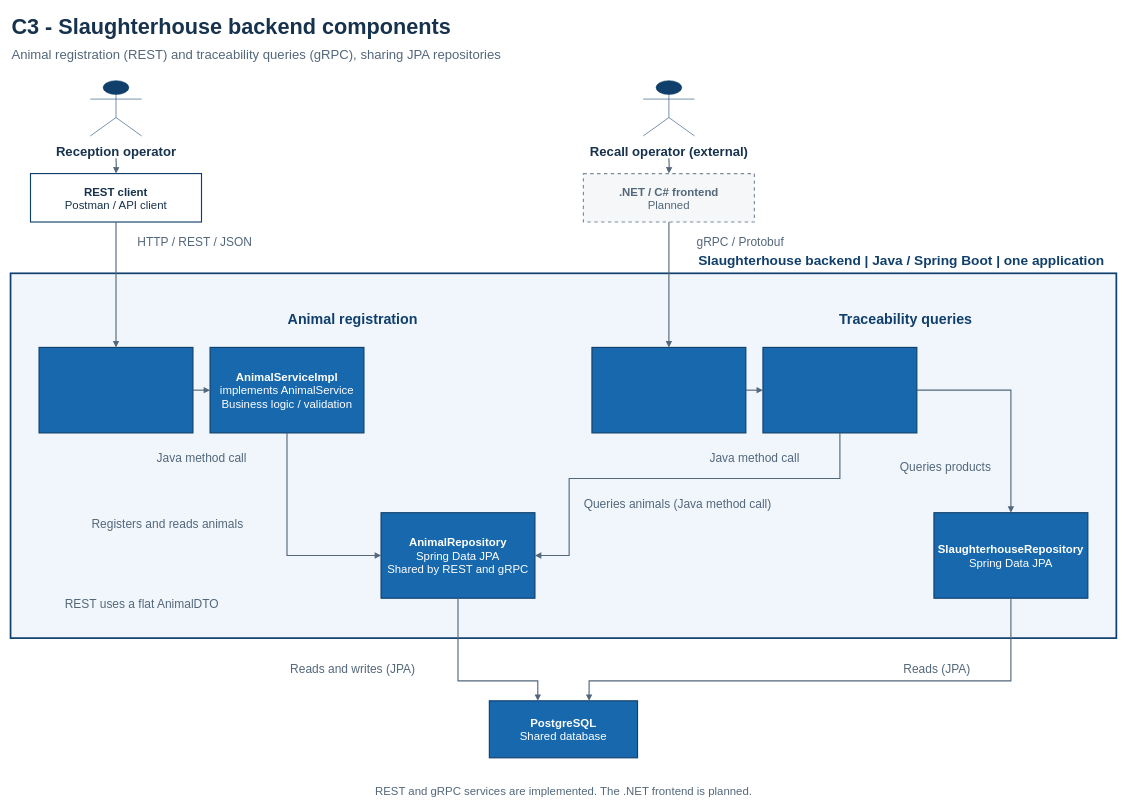
Image size: 1127x809. Some labels were removed from this diagram. The centre of each missing label's shape, as x and y in pixels:
AnimalController REST endpoints: the point at 115,390
GrpcSlaughterhouseServer gRPC endpoints: the point at 668,390
SlaughterhouseService Domain service: the point at 839,390
